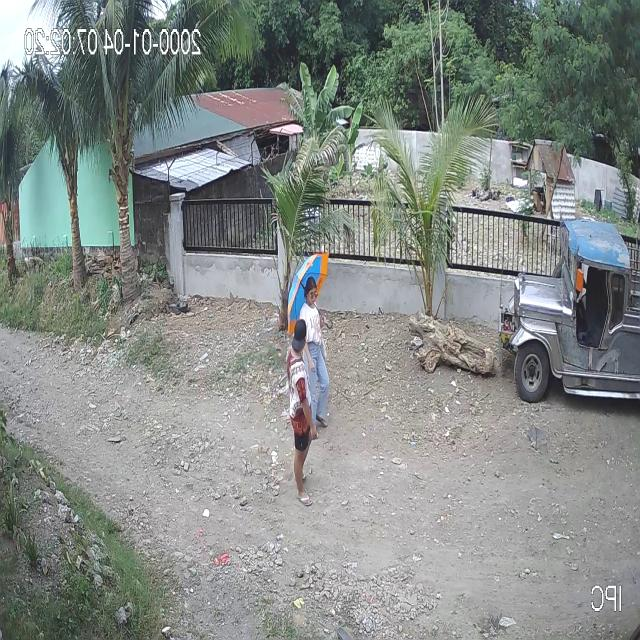walking: (286, 249, 335, 444), (286, 313, 319, 508)
